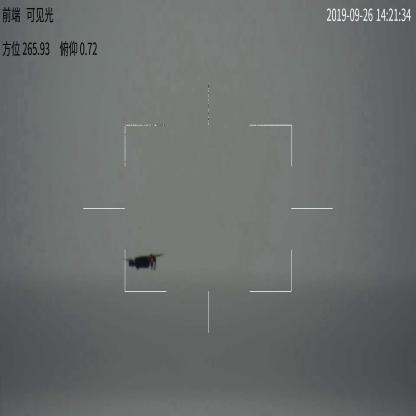uav: (120, 251, 162, 274)
